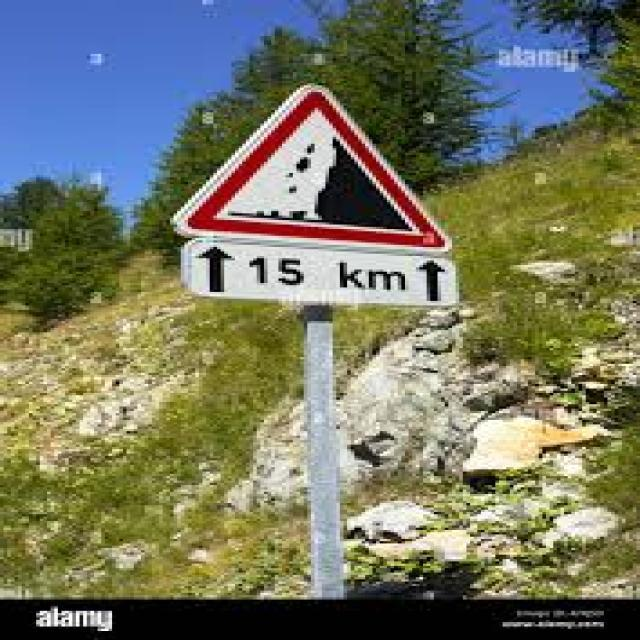falling rocks: (166, 81, 462, 256)
